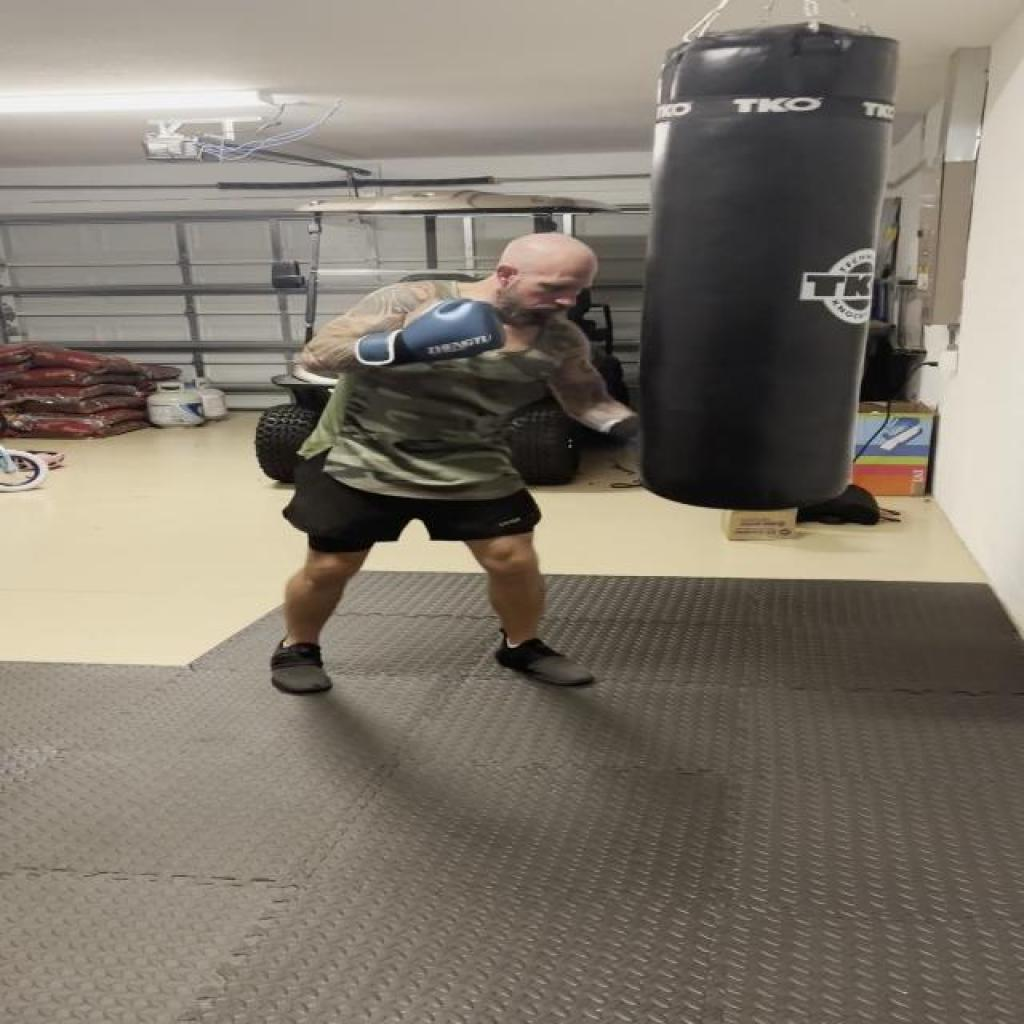bag: (646, 24, 884, 520)
uppercut: (312, 224, 694, 472)
